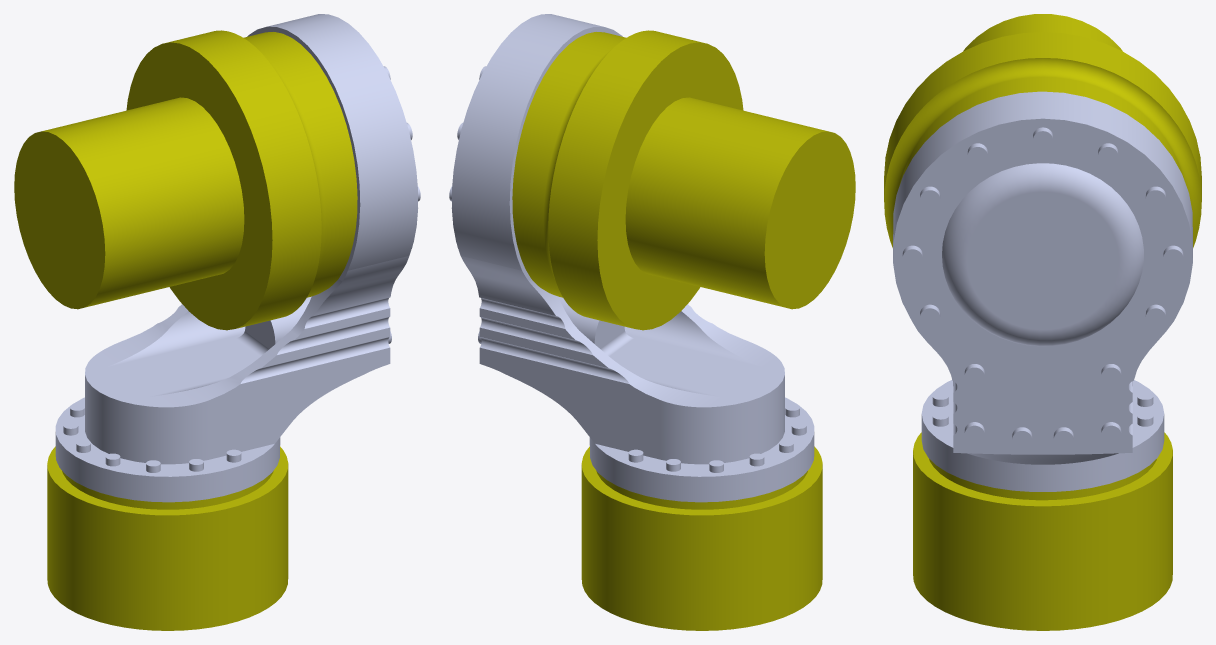
The picture shows the model from 3 angles, left to right: view 1: azimuth 30°, elevation 25°; view 2: azimuth 150°, elevation 25°; view 3: azimuth 270°, elevation 25°; orthographic projection. The views are drawn at different scales.
Visible parts, largest first — view 1: Actor0; view 2: Actor0; view 3: Actor0.
Boxes of the visible parts, x1=… form: Actor0: x1=14, y1=14, x2=420, y2=630; Actor0: x1=449, y1=14, x2=855, y2=630; Actor0: x1=884, y1=14, x2=1201, y2=630.
Size of the model in its own units: 0.1296 by 0.2141 by 0.11.
